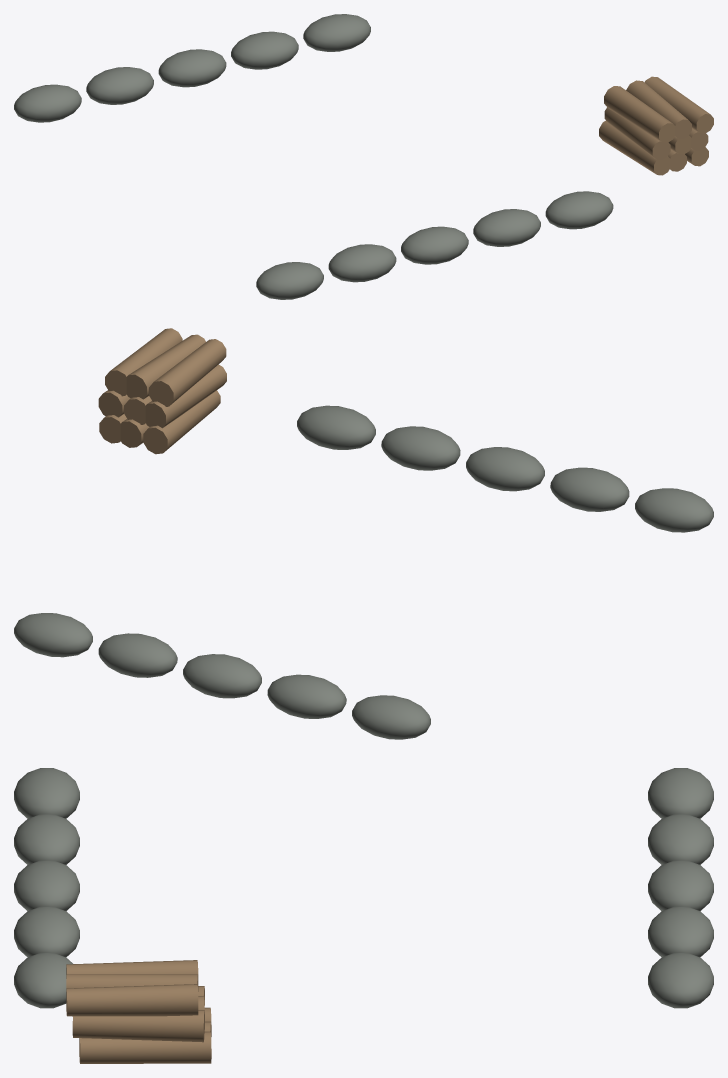
File: kiln-dressing-v2.glb
3 renders of one model, top to bottom at view 1: azimuth 30°, elevation 25°; view 2: azimuth 150°, elevation 25°; view 3: azimuth 270°, elevation 25°, orthographic. The views are drawn at different scales.
Visible parts, largest first — view 1: Earth set stones (×10), Stacked split firewood (×5); view 2: Earth set stones (×10), Stacked split firewood (×5); view 3: Earth set stones (×10), Stacked split firewood (×5).
Part boxes in pixels (x1,y1,x2,y2): Earth set stones (×10): [14, 14, 613, 299]; Stacked split firewood (×5): [599, 76, 713, 175]; Earth set stones (×10): [14, 405, 713, 739]; Stacked split firewood (×5): [105, 328, 226, 454]; Earth set stones (×10): [14, 768, 713, 1008]; Stacked split firewood (×5): [66, 960, 211, 1063].
Bounding box in the file's own units: 3.21 × 0.492 × 3.2.
